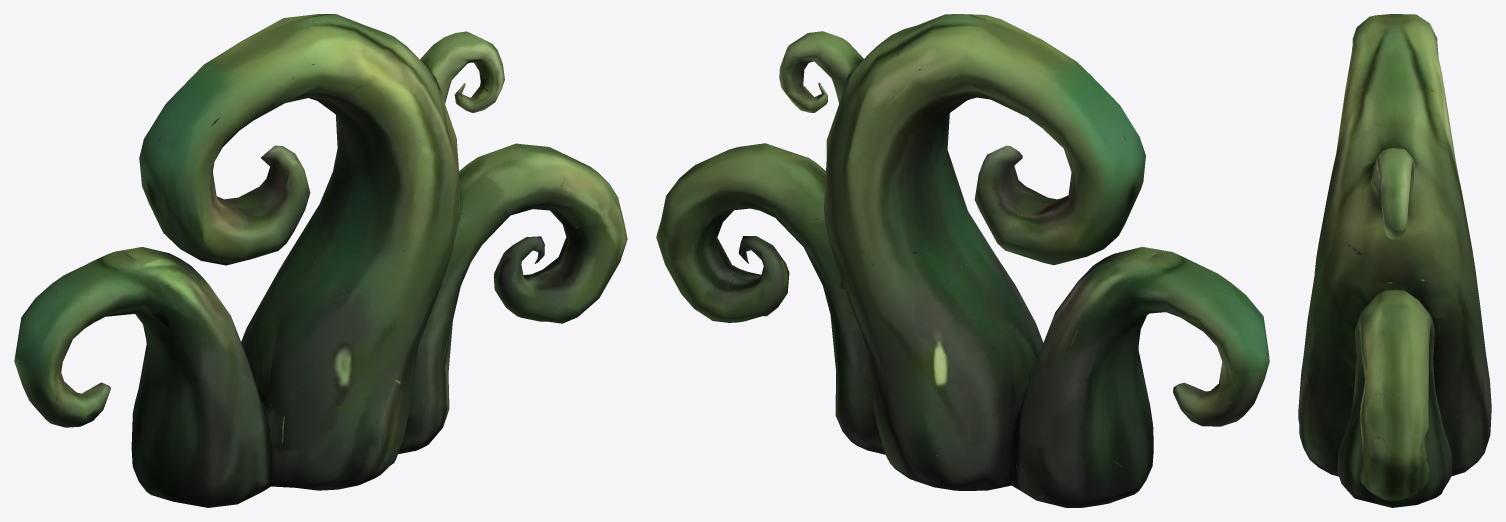
The model's file is verdant_tendrils.glb.
The picture shows the model from 3 angles, left to right: view 1: azimuth 30°, elevation 25°; view 2: azimuth 150°, elevation 25°; view 3: azimuth 270°, elevation 25°; orthographic projection. The views are drawn at different scales.
Visible parts, largest first — view 1: Mesh_0; view 2: Mesh_0; view 3: Mesh_0.
Boxes of the visible parts, x1,y1,x2,y2 form: Mesh_0: (14, 14, 627, 507); Mesh_0: (656, 14, 1269, 507); Mesh_0: (1298, 14, 1491, 507).
Bounding box in the file's own units: 1.9 × 1.3 × 0.5412.
1 material, 1 textured.
